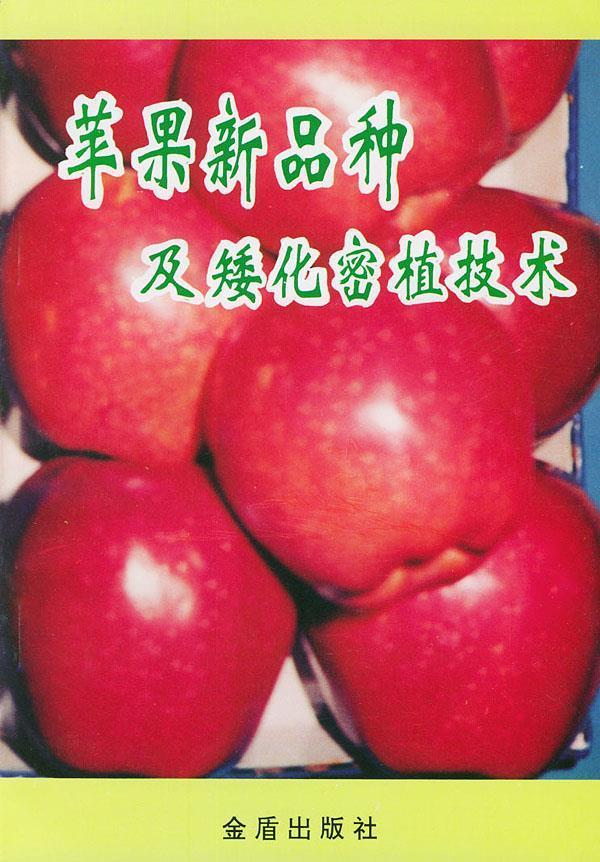apple: (202, 270, 540, 605), (305, 462, 600, 776), (2, 464, 294, 776), (10, 166, 274, 463), (170, 40, 502, 265)
